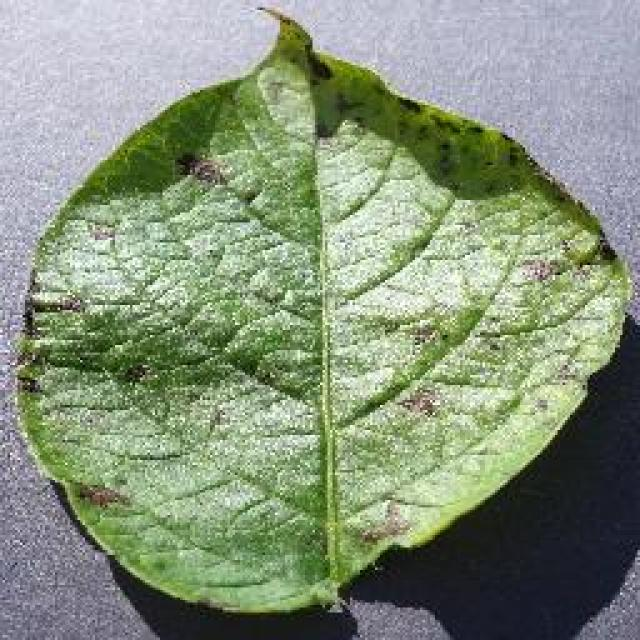early_blight: (10, 2, 635, 620)
